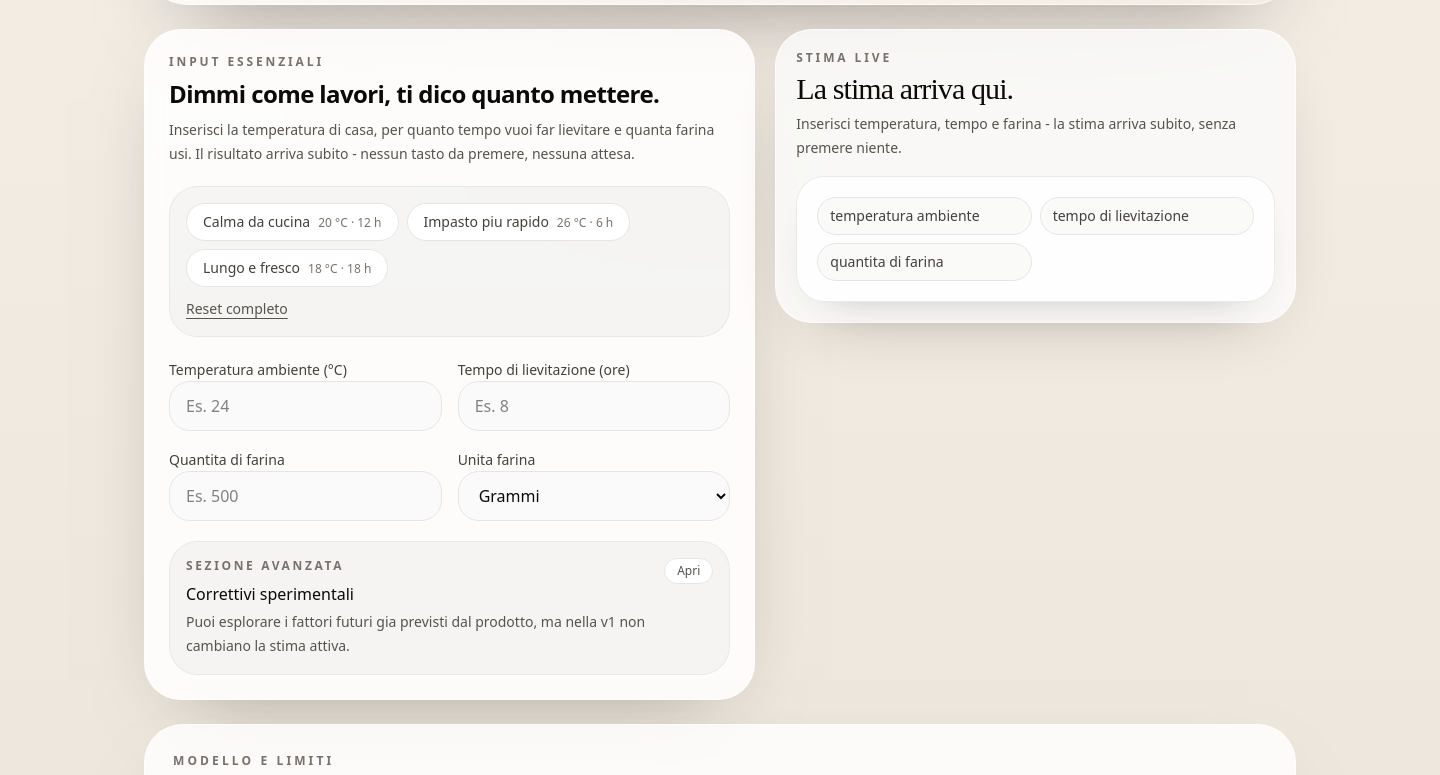
home page calculator flow › recalculates correctly when the flour unit changes and keeps the scenario summary aligned
(page scrolled)
Type "24" into the field labelled "Temperatura ambiente (°C)" at x=305, y=406, box top-left (169, 381), bottom-right (442, 431)
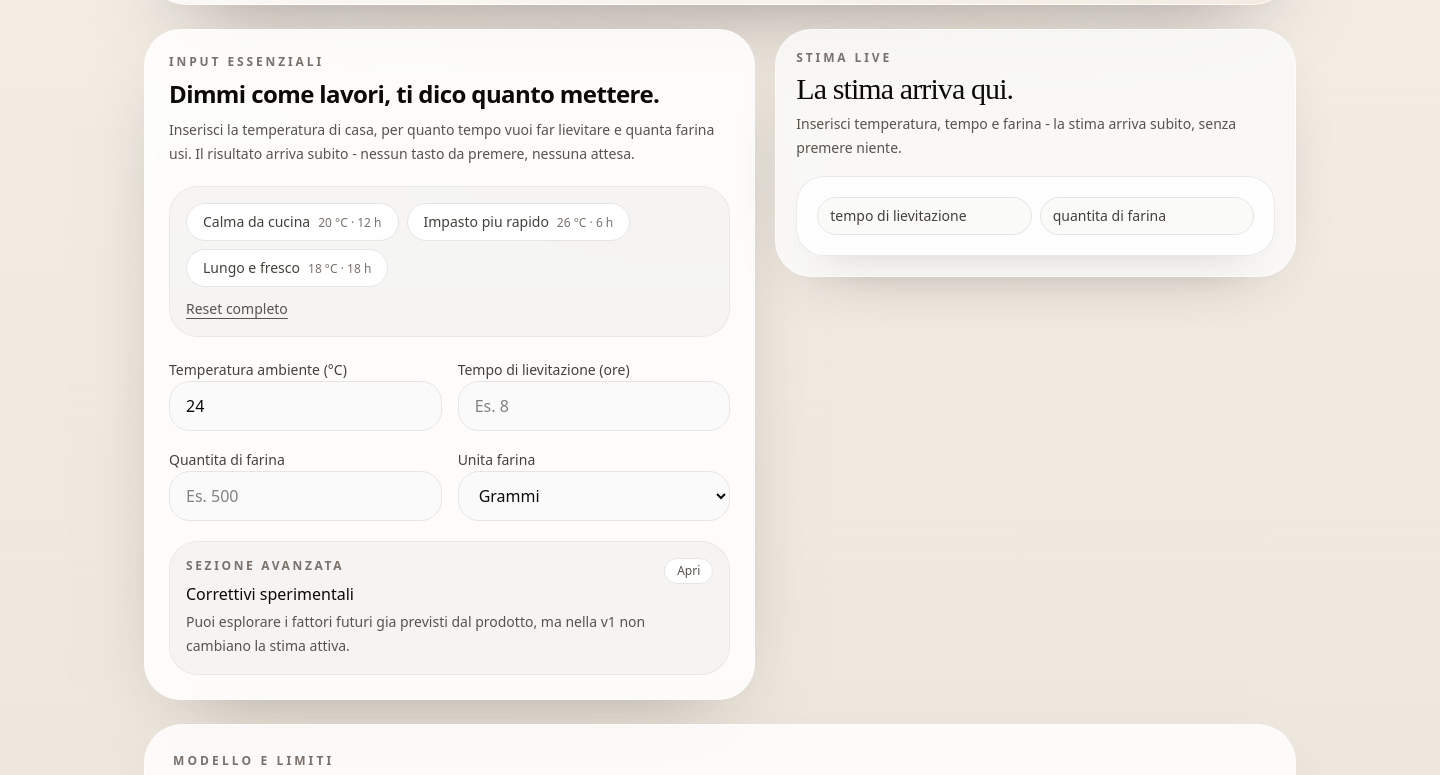
Type "8" into the field labelled "Tempo di lievitazione (ore)" at x=594, y=406, box top-left (458, 381), bottom-right (730, 431)
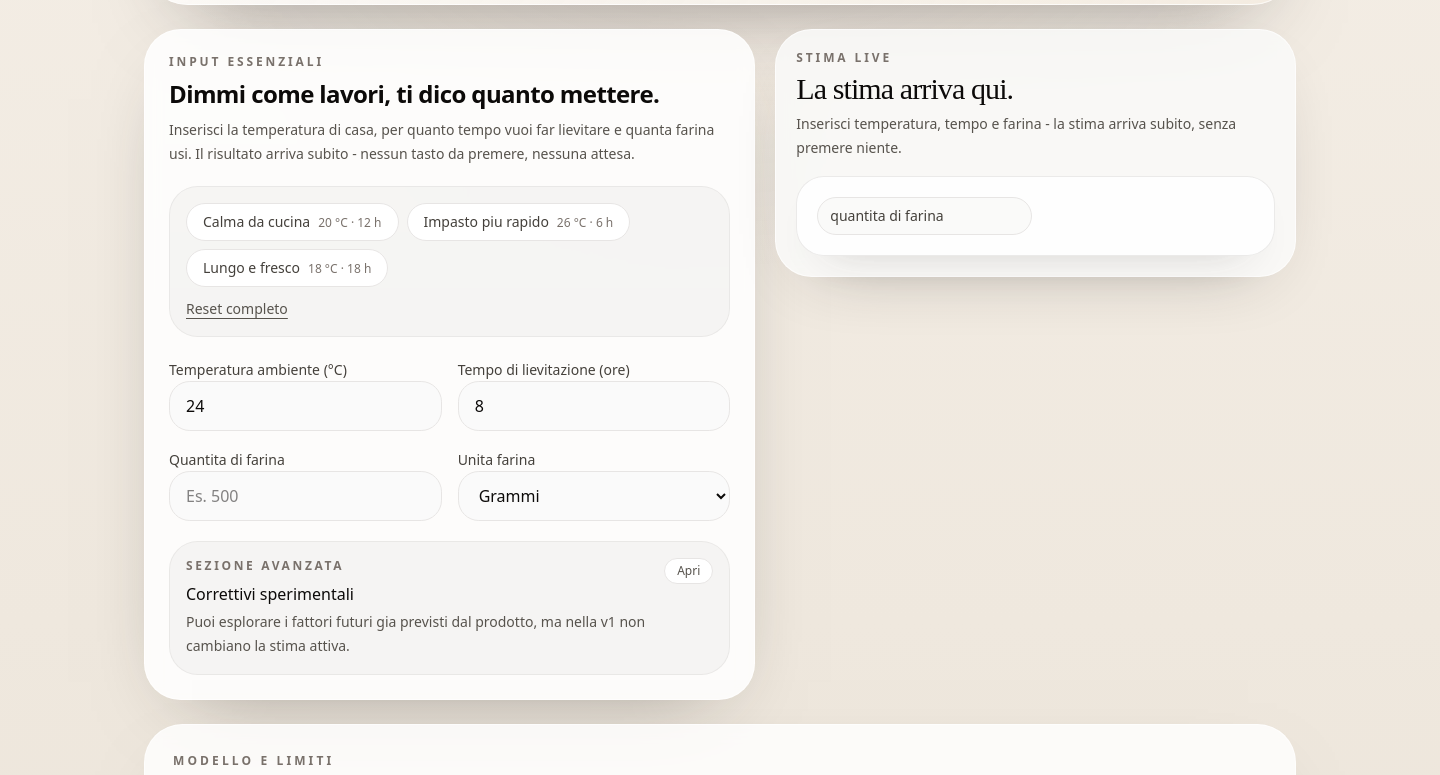
Type "1" into the field labelled "Quantita di farina" at x=305, y=496, box top-left (169, 471), bottom-right (442, 521)
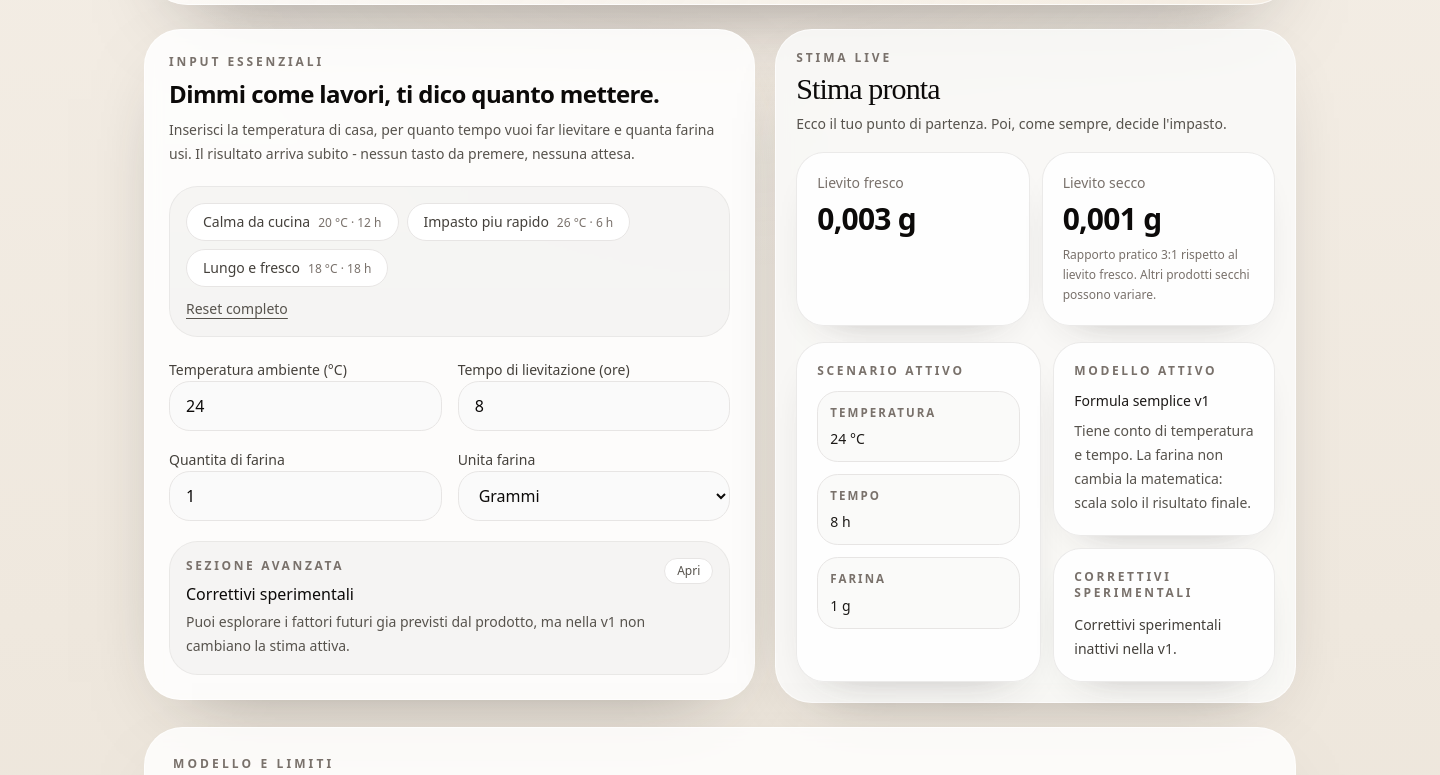
Select "Chilogrammi" in the dropdown labelled "Unita farina" at x=594, y=496, box top-left (458, 471), bottom-right (730, 521)
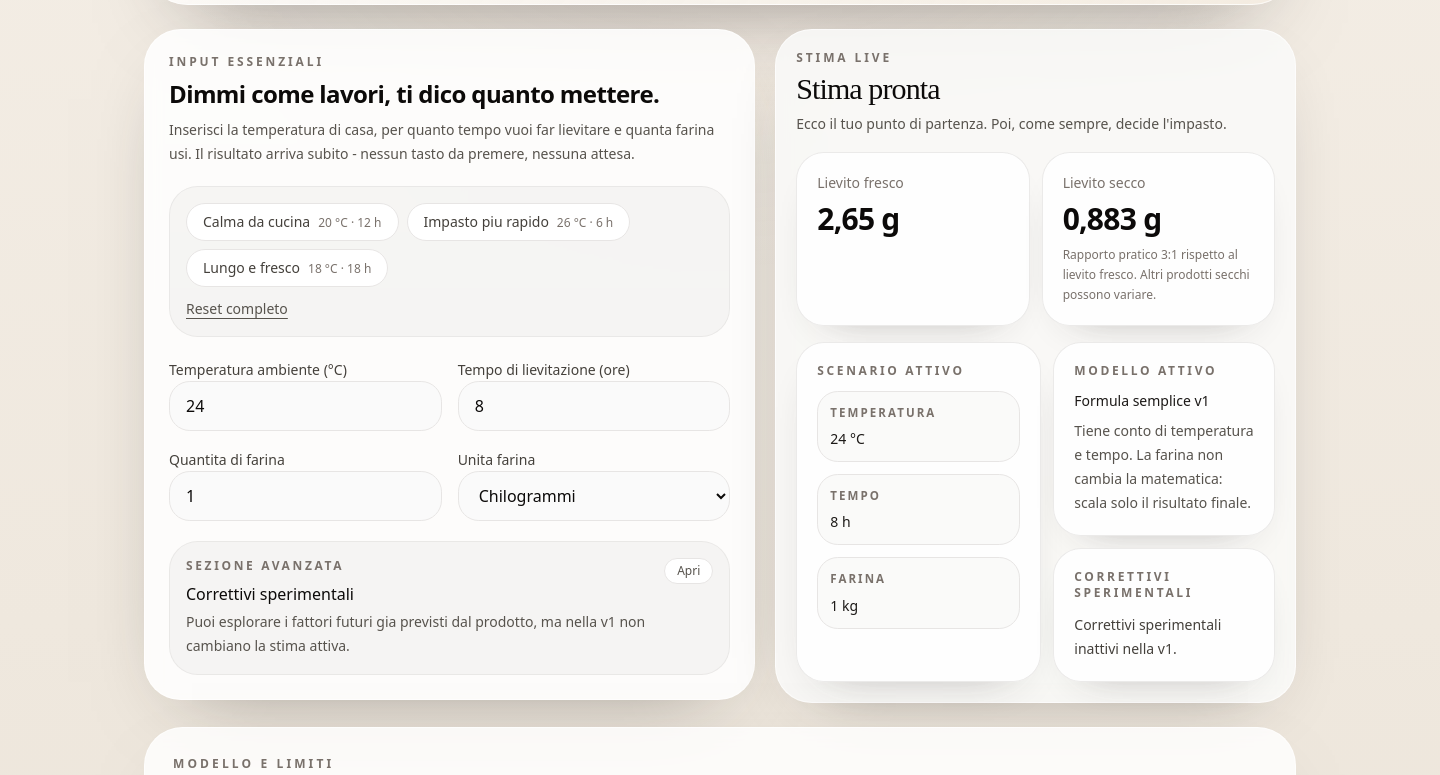
Expected: the text "1 kg" is shown, top-left (830, 596), bottom-right (858, 615)
